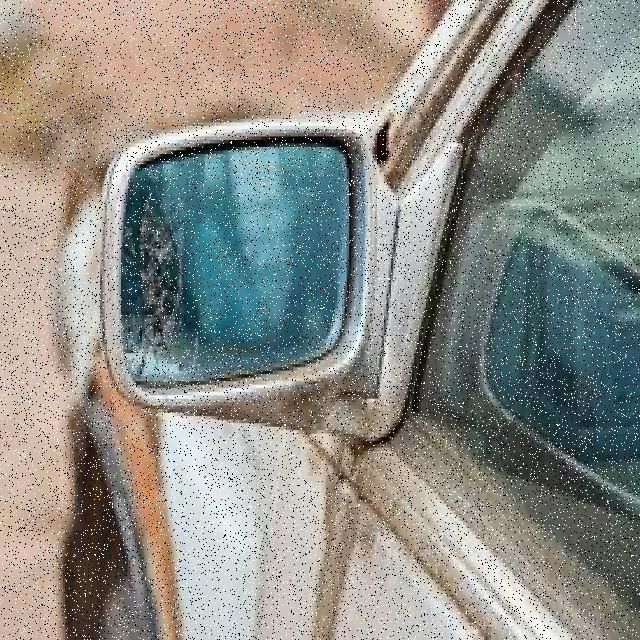Sidemirror-Damage: (79, 102, 384, 437)
